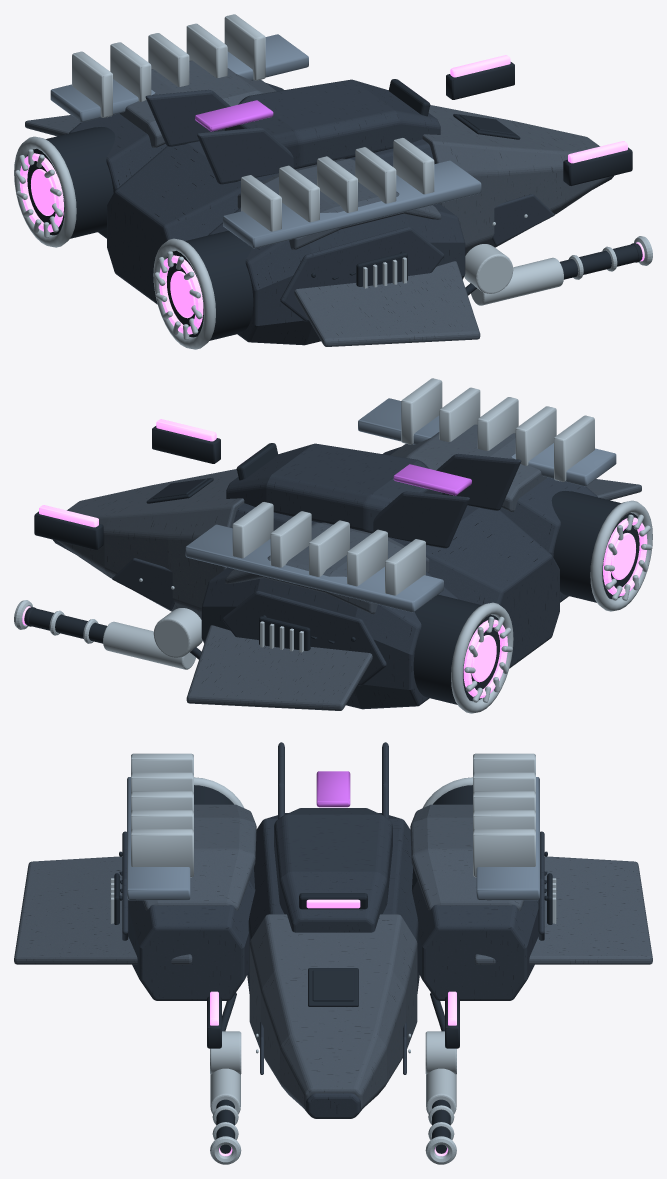
The model's file is gunship.glb.
3 renders of one model, top to bottom at view 1: azimuth 30°, elevation 25°; view 2: azimuth 150°, elevation 25°; view 3: azimuth 270°, elevation 25°, orthographic.
Visible parts, largest first — view 1: HEAVY_Gunship_V2_CONCEPT2_armor.001, HEAVY_Gunship_V2_CONCEPT2_ceramic.001, HEAVY_Gunship_V2_CONCEPT2_dark.001, HEAVY_Gunship_V2_CONCEPT2_steel.001, REFIT gunship engine ceramic shield.001, HEAVY_Gunship_V2_CONCEPT2_violet.001, REFIT gunship engine ceramic shield, HEAVY_Gunship_V2_CONCEPT2_rubber.001, REFIT gunship engine heat vane.004, REFIT gunship engine heat vane, REFIT gunship engine heat vane.001, REFIT gunship engine heat vane.009 (+11 smaller); view 2: HEAVY_Gunship_V2_CONCEPT2_armor.001, HEAVY_Gunship_V2_CONCEPT2_ceramic.001, HEAVY_Gunship_V2_CONCEPT2_dark.001, HEAVY_Gunship_V2_CONCEPT2_steel.001, REFIT gunship engine ceramic shield, HEAVY_Gunship_V2_CONCEPT2_violet.001, REFIT gunship engine ceramic shield.001, HEAVY_Gunship_V2_CONCEPT2_rubber.001, REFIT gunship engine heat vane.009, REFIT gunship engine heat vane.005, REFIT gunship engine heat vane.006, REFIT gunship engine heat vane.004 (+11 smaller); view 3: HEAVY_Gunship_V2_CONCEPT2_ceramic.001, HEAVY_Gunship_V2_CONCEPT2_armor.001, HEAVY_Gunship_V2_CONCEPT2_steel.001, HEAVY_Gunship_V2_CONCEPT2_dark.001, HEAVY_Gunship_V2_CONCEPT2_rubber.001, REFIT gunship engine ceramic shield, REFIT gunship engine ceramic shield.001, REFIT gunship engine heat vane.004, REFIT gunship engine heat vane.009, REFIT gunship command telemetry, REFIT gunship engine heat vane.001, REFIT gunship engine heat vane.002 (+8 smaller).
Boxes of the visible parts, left/top/right/bottom form: HEAVY_Gunship_V2_CONCEPT2_armor.001: left=69, top=79, right=613, bottom=345; HEAVY_Gunship_V2_CONCEPT2_ceramic.001: left=25, top=60, right=610, bottom=346; HEAVY_Gunship_V2_CONCEPT2_dark.001: left=27, top=114, right=642, bottom=340; HEAVY_Gunship_V2_CONCEPT2_steel.001: left=14, top=136, right=652, bottom=349; REFIT gunship engine ceramic shield.001: left=223, top=160, right=481, bottom=248; HEAVY_Gunship_V2_CONCEPT2_violet.001: left=19, top=85, right=644, bottom=334; REFIT gunship engine ceramic shield: left=50, top=34, right=308, bottom=122; HEAVY_Gunship_V2_CONCEPT2_rubber.001: left=332, top=79, right=641, bottom=295; REFIT gunship engine heat vane.004: left=224, top=14, right=265, bottom=80; REFIT gunship engine heat vane: left=72, top=51, right=112, bottom=117; REFIT gunship engine heat vane.001: left=110, top=42, right=151, bottom=101; REFIT gunship engine heat vane.009: left=393, top=138, right=434, bottom=194; HEAVY_Gunship_V2_CONCEPT2_armor.001: left=53, top=443, right=597, bottom=709; HEAVY_Gunship_V2_CONCEPT2_ceramic.001: left=56, top=424, right=641, bottom=710; HEAVY_Gunship_V2_CONCEPT2_dark.001: left=24, top=478, right=639, bottom=704; HEAVY_Gunship_V2_CONCEPT2_steel.001: left=14, top=500, right=652, bottom=713; REFIT gunship engine ceramic shield: left=185, top=524, right=443, bottom=612; HEAVY_Gunship_V2_CONCEPT2_violet.001: left=22, top=449, right=647, bottom=698; REFIT gunship engine ceramic shield.001: left=358, top=398, right=616, bottom=486; HEAVY_Gunship_V2_CONCEPT2_rubber.001: left=25, top=443, right=334, bottom=659; REFIT gunship engine heat vane.009: left=401, top=378, right=442, bottom=444; REFIT gunship engine heat vane.005: left=554, top=415, right=594, bottom=481; REFIT gunship engine heat vane.006: left=515, top=406, right=556, bottom=465; REFIT gunship engine heat vane.004: left=232, top=502, right=273, bottom=558; HEAVY_Gunship_V2_CONCEPT2_ceramic.001: left=14, top=804, right=652, bottom=1109; HEAVY_Gunship_V2_CONCEPT2_armor.001: left=122, top=742, right=544, bottom=1118; HEAVY_Gunship_V2_CONCEPT2_steel.001: left=110, top=777, right=556, bottom=1164; HEAVY_Gunship_V2_CONCEPT2_dark.001: left=119, top=785, right=547, bottom=1153; HEAVY_Gunship_V2_CONCEPT2_rubber.001: left=114, top=871, right=552, bottom=1031; REFIT gunship engine ceramic shield: left=476, top=777, right=539, bottom=900; REFIT gunship engine ceramic shield.001: left=127, top=777, right=190, bottom=900; REFIT gunship engine heat vane.004: left=473, top=829, right=535, bottom=877; REFIT gunship engine heat vane.009: left=131, top=829, right=193, bottom=877; REFIT gunship command telemetry: left=316, top=771, right=350, bottom=807; REFIT gunship engine heat vane.001: left=473, top=772, right=535, bottom=792; REFIT gunship engine heat vane.002: left=473, top=791, right=535, bottom=811.
Bounding box in the file's own units: 1.56 × 0.6406 × 1.72.
9 materials, 2 textured.
